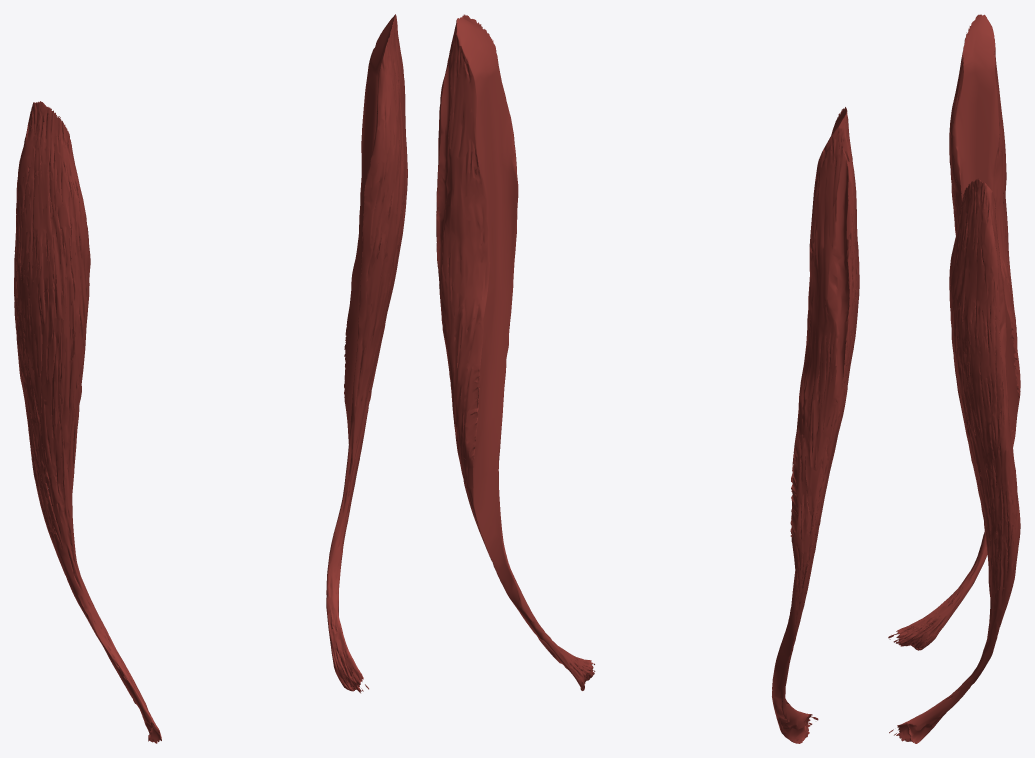
Rendered from explorar-tibialis_anterior.glb.
The picture shows the model from 3 angles, left to right: view 1: azimuth 30°, elevation 25°; view 2: azimuth 150°, elevation 25°; view 3: azimuth 270°, elevation 25°; orthographic projection. The views are drawn at different scales.
Visible parts, largest first — view 1: tibialis_anterior__vientre_derecho, tibialis_anterior__vientre_izquierdo, tibialis_anterior__extremo_distal_izquierdo, tibialis_anterior__extremo_distal_derecho; view 2: tibialis_anterior__vientre_izquierdo, tibialis_anterior__vientre_derecho, tibialis_anterior__extremo_distal_izquierdo, tibialis_anterior__extremo_distal_derecho; view 3: tibialis_anterior__vientre_izquierdo, tibialis_anterior__vientre_derecho, tibialis_anterior__extremo_distal_derecho, tibialis_anterior__extremo_distal_izquierdo.
Part boxes in pixels (bbox=[...]): tibialis_anterior__vientre_derecho: bbox=[14, 101, 90, 572]; tibialis_anterior__vientre_izquierdo: bbox=[342, 14, 407, 501]; tibialis_anterior__extremo_distal_izquierdo: bbox=[326, 496, 368, 693]; tibialis_anterior__extremo_distal_derecho: bbox=[59, 561, 161, 743]; tibialis_anterior__vientre_izquierdo: bbox=[436, 14, 518, 552]; tibialis_anterior__vientre_derecho: bbox=[788, 107, 859, 626]; tibialis_anterior__extremo_distal_izquierdo: bbox=[486, 538, 595, 690]; tibialis_anterior__extremo_distal_derecho: bbox=[772, 615, 818, 743]; tibialis_anterior__vientre_izquierdo: bbox=[949, 178, 1020, 620]; tibialis_anterior__vientre_derecho: bbox=[949, 14, 1020, 446]; tibialis_anterior__extremo_distal_derecho: bbox=[888, 532, 987, 650]; tibialis_anterior__extremo_distal_izquierdo: bbox=[889, 614, 1002, 743].
Size of the model in its own units: 0.2276 by 0.357 by 0.0713.
